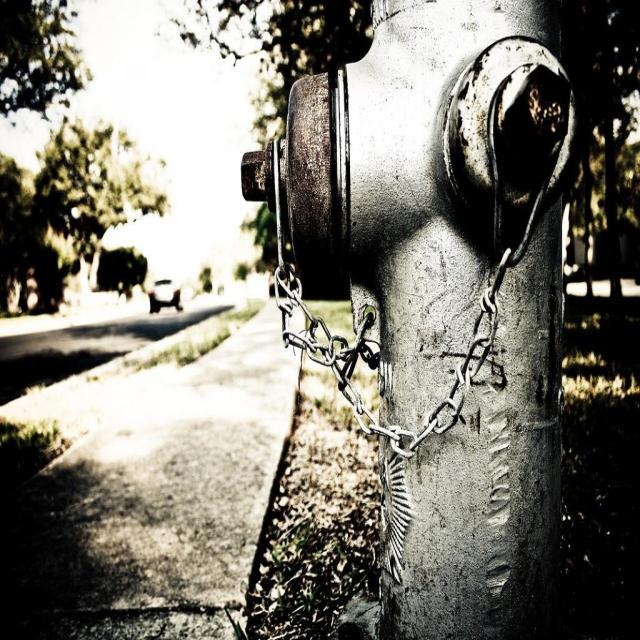fire_hydrant: (239, 0, 580, 639)
